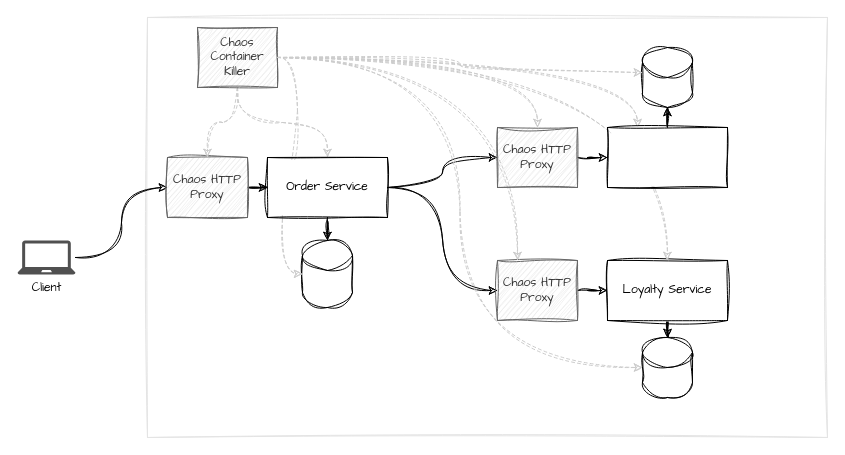
This 845x455 diagram has some shape labels left out. The centre of each missing label's shape, as x and y in pixels:
"Loyalty DB" belongs at point (667, 367).
"Menu DB" belongs at point (667, 77).
"Menu Service" belongs at point (667, 157).
"Order DB" belongs at point (327, 274).
